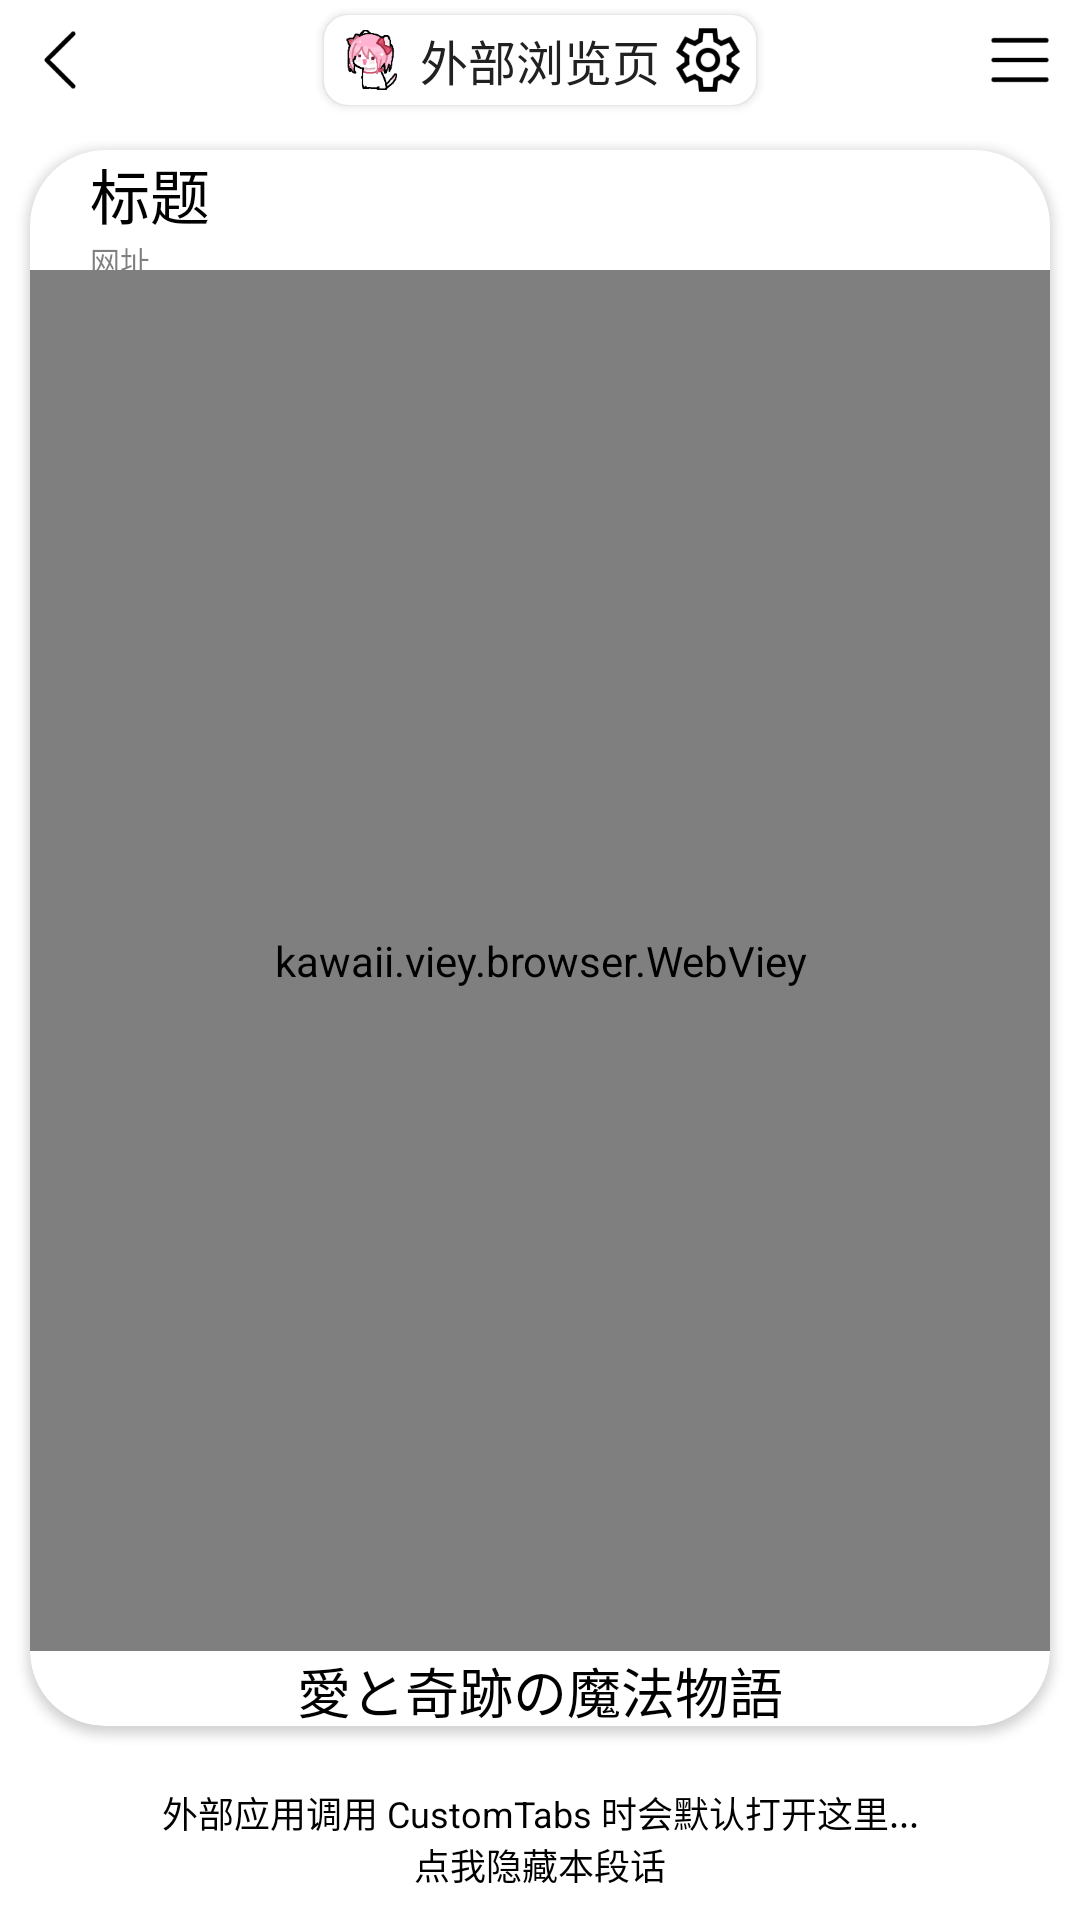

Icon bounding boxes for this 1080x1920 phone screenshot, format (x1, y1, x2, y2):
arrow back: (44, 31, 76, 89)
menu: (991, 37, 1049, 83)
setting: (676, 15, 756, 105)
